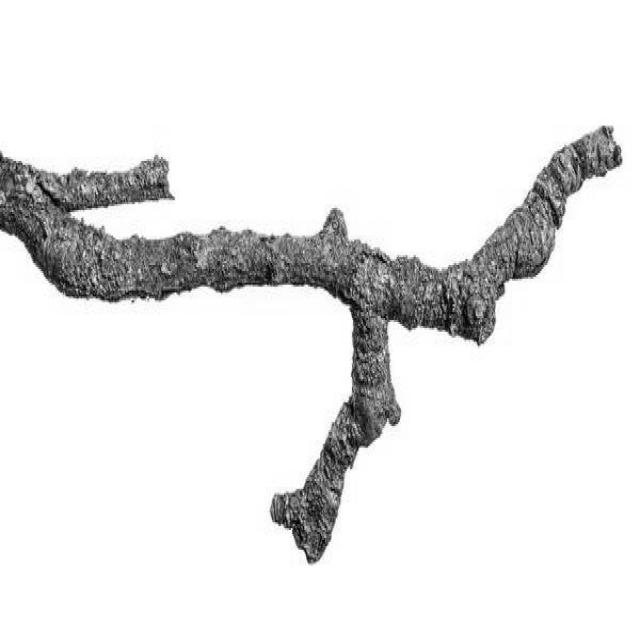Tree: (0, 126, 623, 562)
